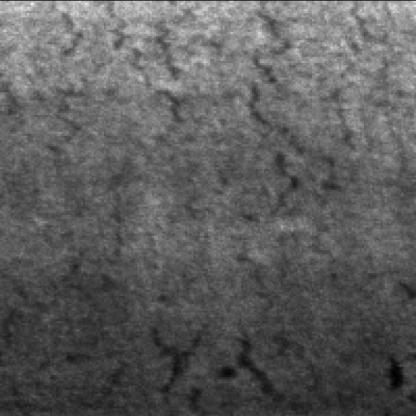crazing: (6, 260, 316, 414), (218, 4, 414, 216), (2, 6, 189, 183)
